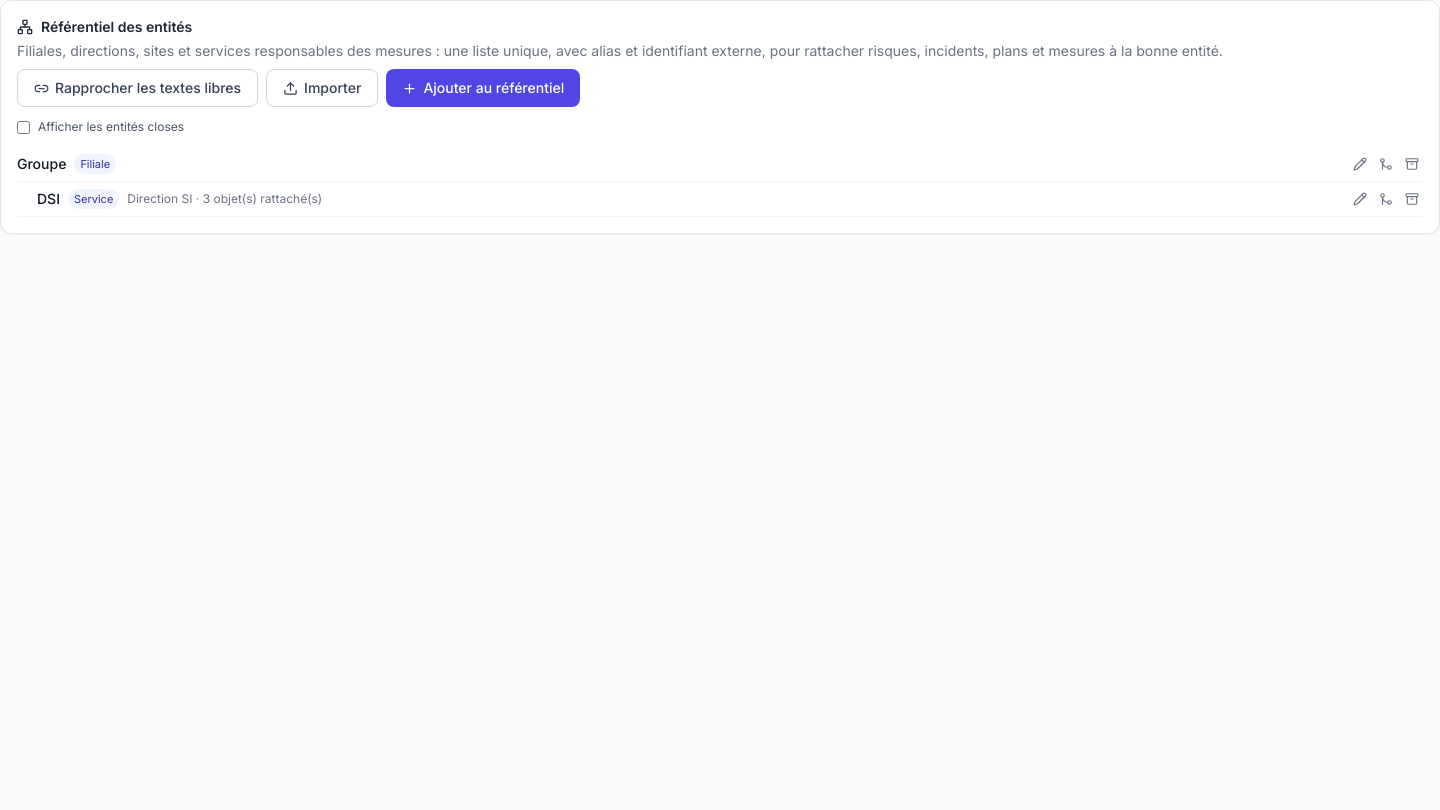
Test: ReferentielEntites › affiche la hiérarchie, masque les entités closes par défaut
The width and height of the screenshot is (1440, 810).
Check: the text "Groupe" is shown, box [17,154,66,174]
Check: the text "DSI" is shown, box [37,189,60,209]
Click the checkbox labelled "Afficher les entités closes".
click(24, 127)  # box [17,120,30,134]
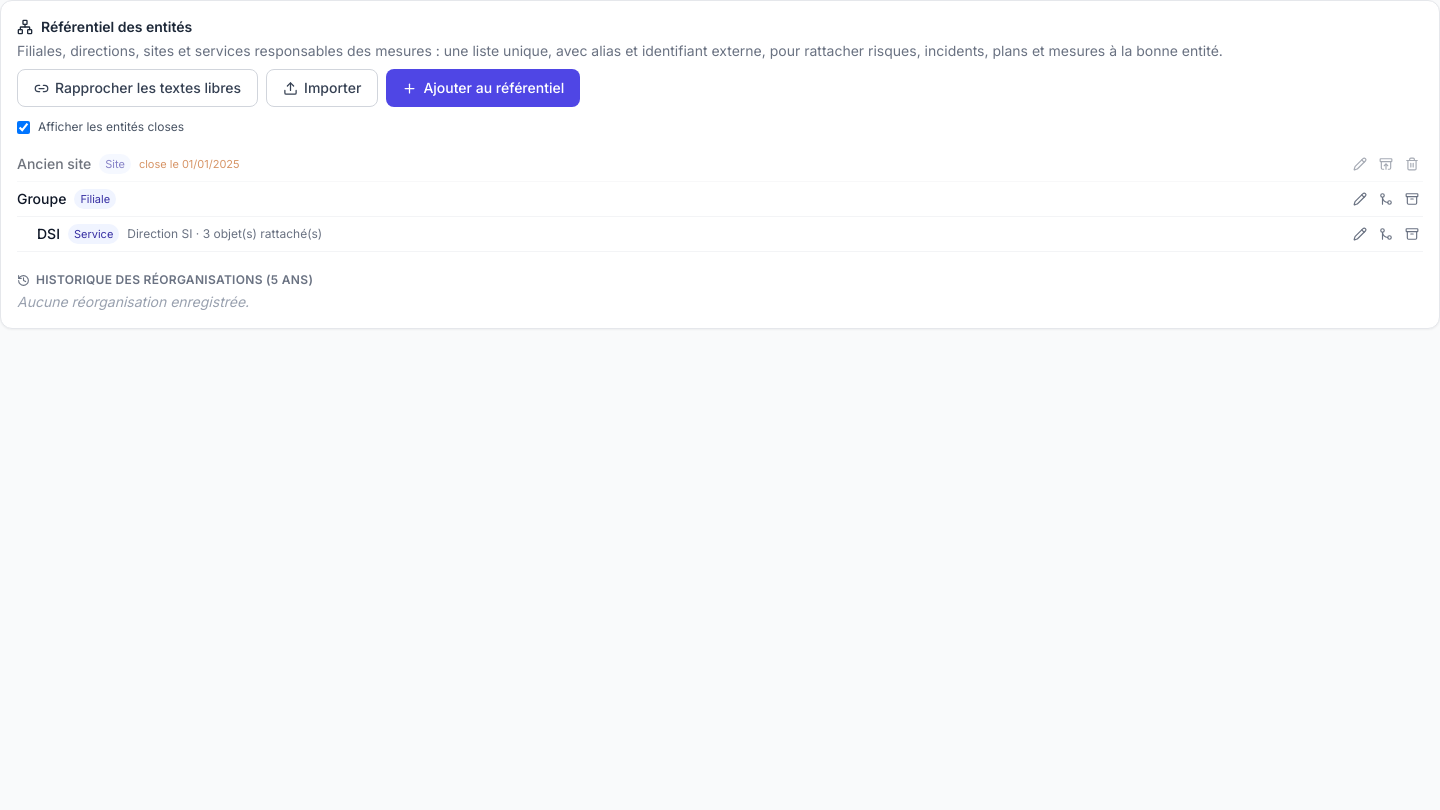
Check: the text "Ancien site" is shown, box [17,154,91,174]
// Import (lot E2) : le panneau s'ouvre depuis le référentiel.
Click the button "Importer".
click(322, 88)  # box [266,69,378,107]
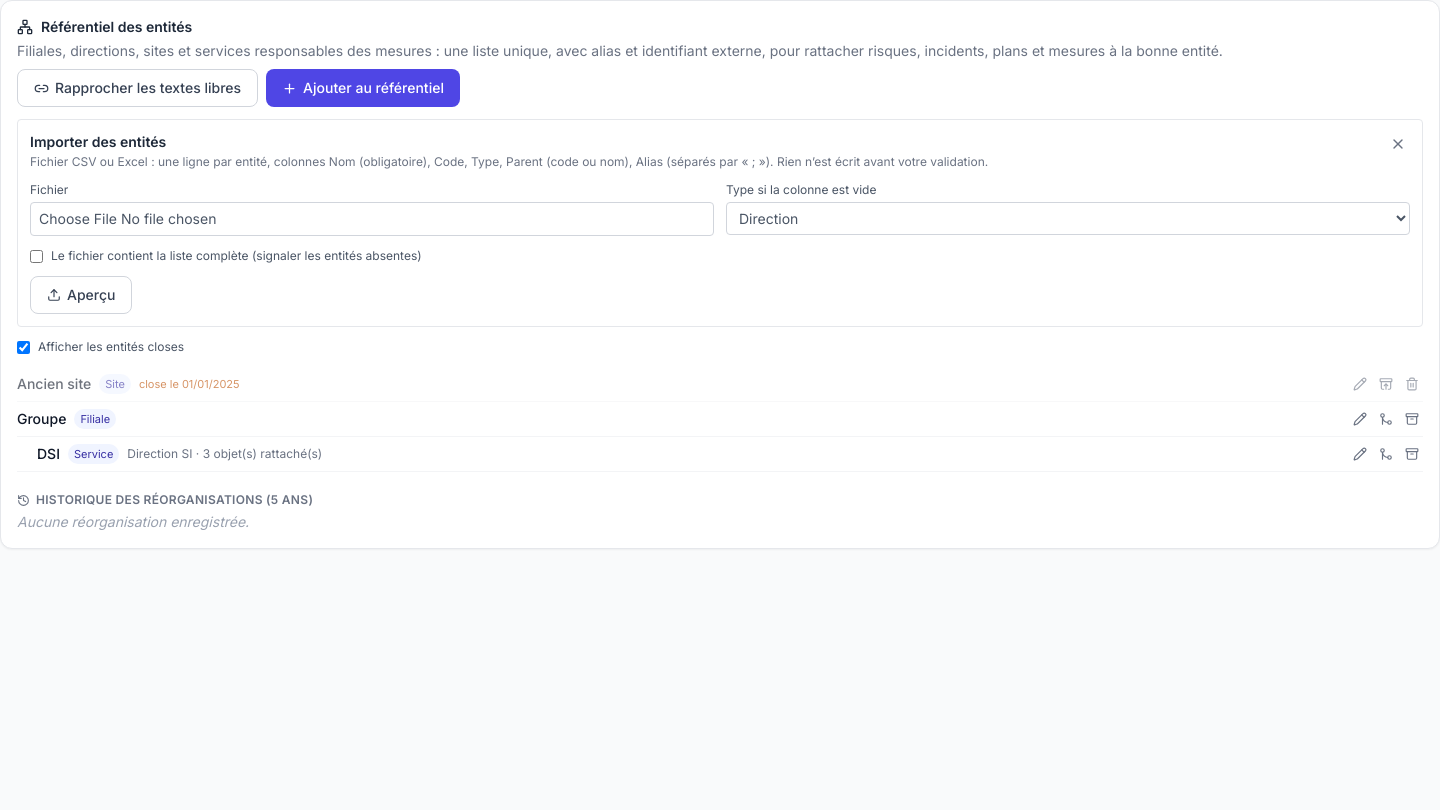
Check: the element "Importer des entités" is shown, box [17,119,1423,327]
// Rapprochement des textes libres (lot E3).
Click the button "Rapprocher les textes libres".
click(138, 88)  # box [17,69,258,107]
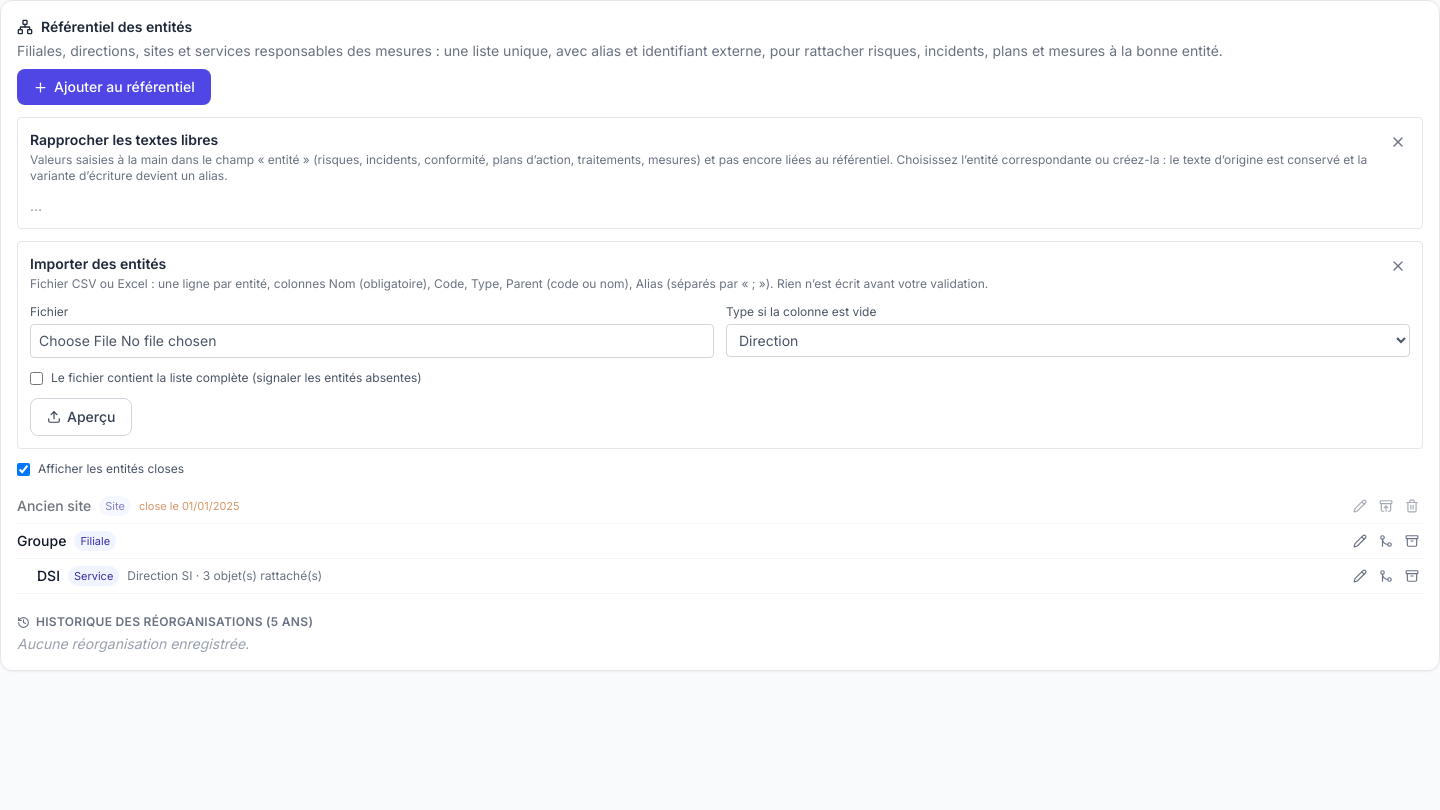
Check: the element "Rapprocher les textes libres" is shown, box [17,117,1423,229]
Click the button named "Réorganiser DSI".
click(1386, 576)  # box [1375,565,1397,587]
(page scrolled)
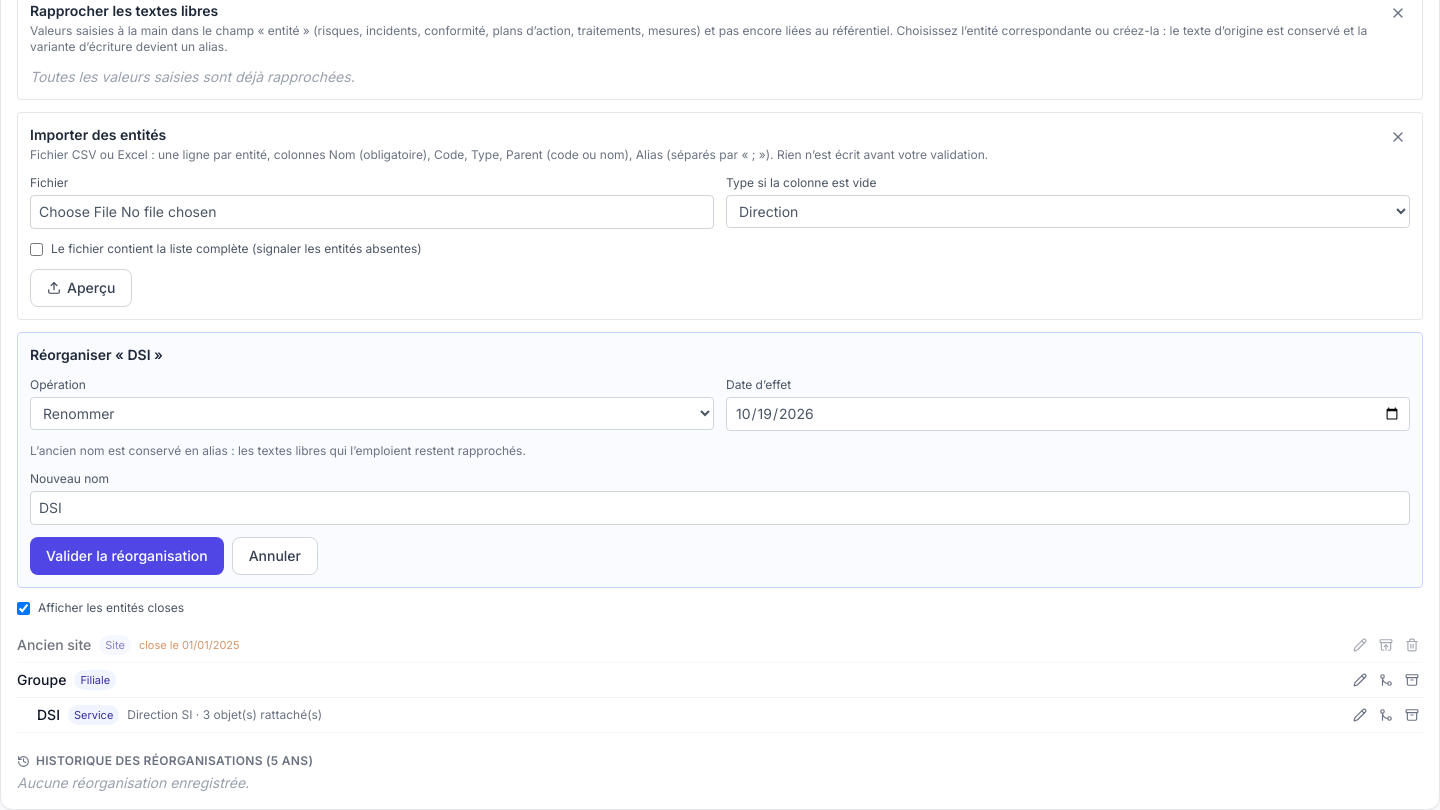
Check: the heading "Historique des réorganisations (5 ans)" is shown, box [17,753,313,768]
Check: the element "Réorganiser « DSI »" is shown, box [17,332,1423,588]
